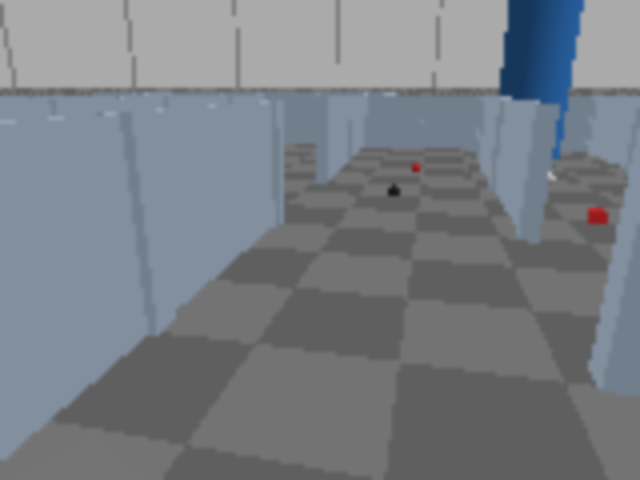obstacle: (0, 434, 248, 478)
puck: (586, 210, 609, 224)
